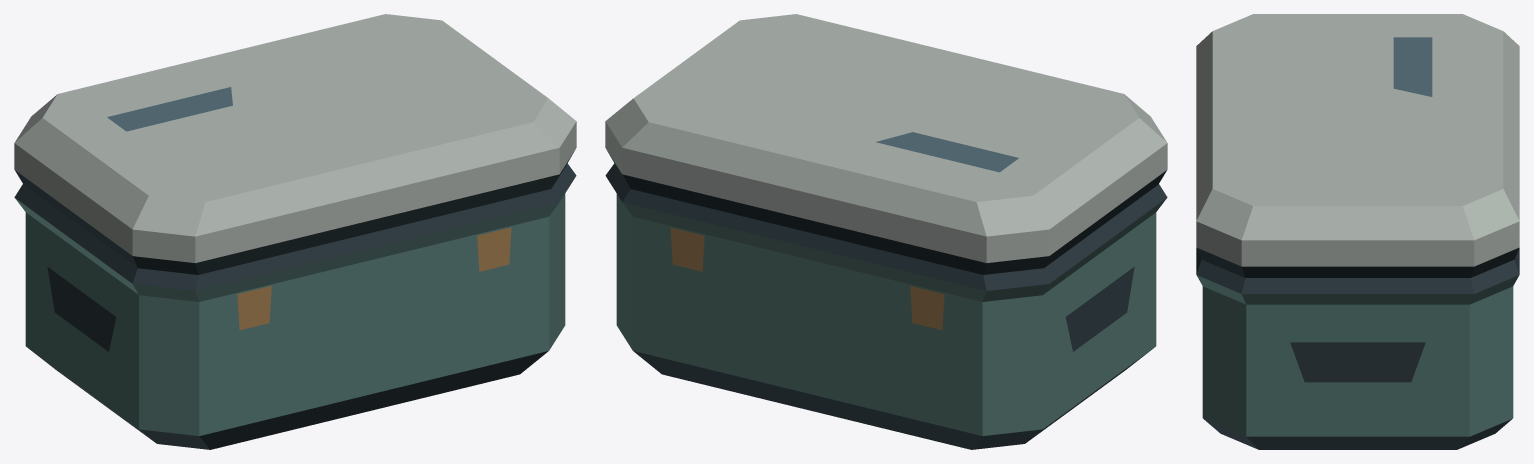
Rendered from K-09_slat_crate_large.glb.
3 views of the same model, side by side, from view 1: azimuth 30°, elevation 25°; view 2: azimuth 150°, elevation 25°; view 3: azimuth 270°, elevation 25° (orthographic).
Visible parts, largest first — view 1: K-09_slat_crate_large; view 2: K-09_slat_crate_large; view 3: K-09_slat_crate_large.
Boxes of the visible parts, left/top/right/bottom form: K-09_slat_crate_large: left=14, top=14, right=576, bottom=449; K-09_slat_crate_large: left=605, top=14, right=1167, bottom=449; K-09_slat_crate_large: left=1196, top=14, right=1519, bottom=449.
Bounding box in the file's own units: 0.964 × 0.5252 × 0.6172.
